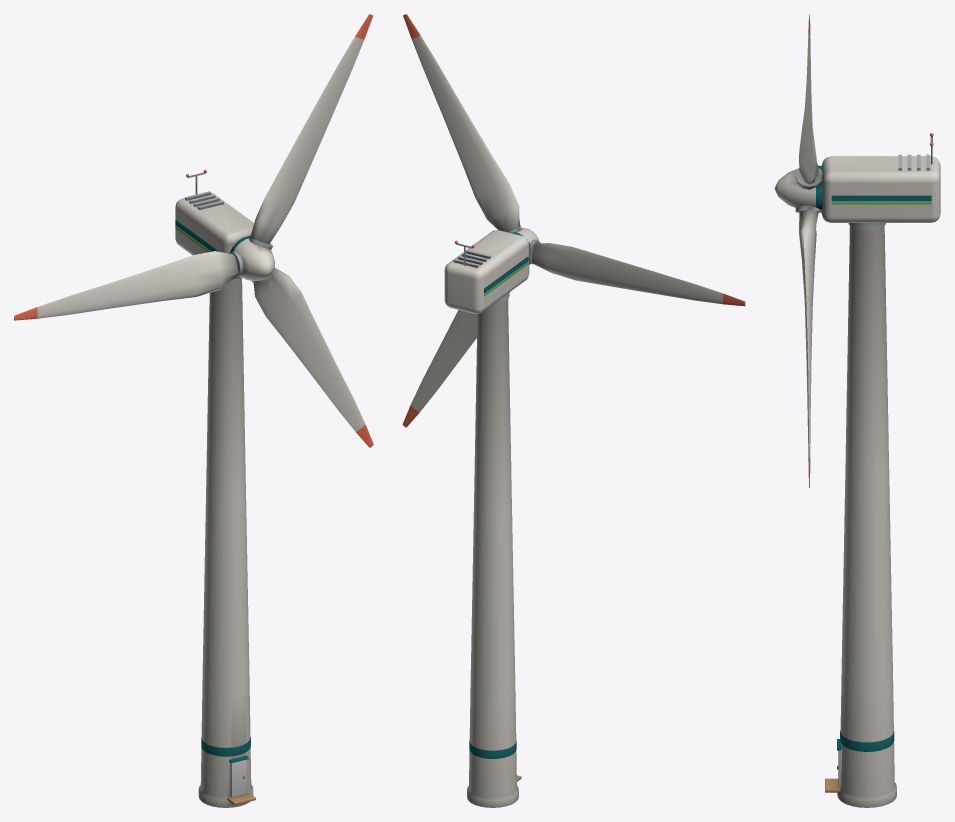
Rendered from wind_turbine.fbx.
3 views of the same model, side by side, from view 1: azimuth 30°, elevation 25°; view 2: azimuth 150°, elevation 25°; view 3: azimuth 270°, elevation 25° (orthographic). The views are drawn at different scales.
Parts seen in each view (by area): view 1: wind_turbine, Rotor; view 2: wind_turbine, Rotor; view 3: wind_turbine, Rotor.
Part boxes in pixels (x1=…): wind_turbine: x1=175, y1=170, x2=255, y2=807; Rotor: x1=14, y1=14, x2=373, y2=447; wind_turbine: x1=444, y1=230, x2=529, y2=807; Rotor: x1=402, y1=14, x2=745, y2=427; wind_turbine: x1=821, y1=133, x2=940, y2=807; Rotor: x1=774, y1=14, x2=822, y2=487.
Bounding box in the file's own units: 20.38 × 41.89 × 7.48.
